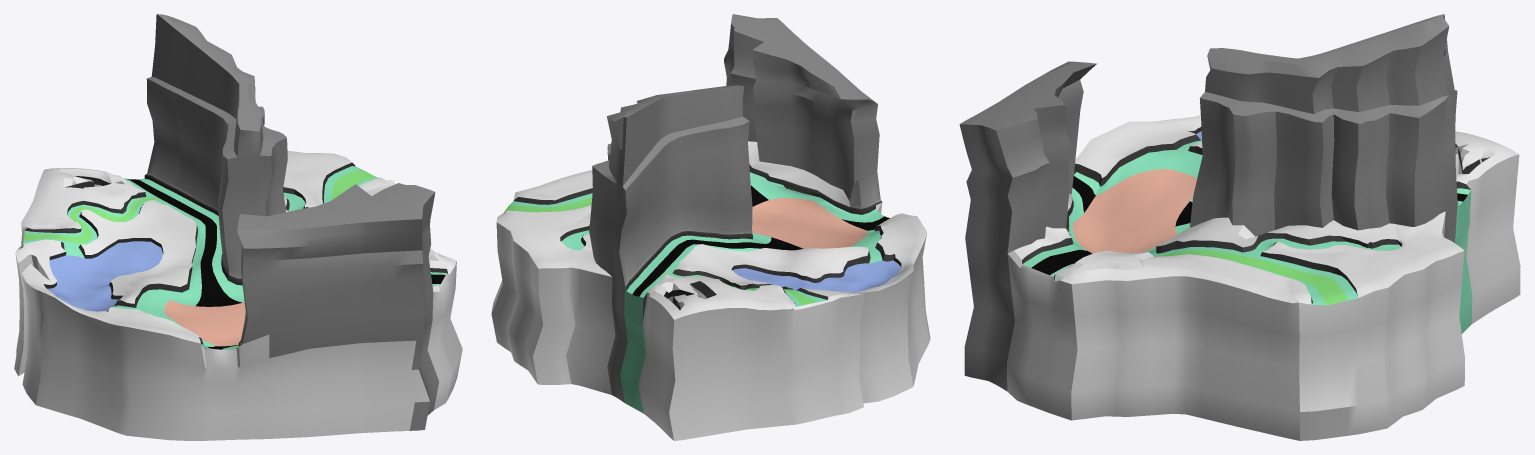
File: campfireisland 1.fbx
3 views of the same model, side by side, from view 1: azimuth 30°, elevation 25°; view 2: azimuth 150°, elevation 25°; view 3: azimuth 270°, elevation 25° (orthographic). The views are drawn at different scales.
Visible parts, largest first — view 1: CampfireIsland; view 2: CampfireIsland; view 3: CampfireIsland.
Boxes of the visible parts, x1,y1,x2,y2 form: CampfireIsland: [14, 14, 462, 440]; CampfireIsland: [491, 14, 930, 440]; CampfireIsland: [959, 14, 1520, 440].
Bounding box in the file's own units: 35160 × 24543 × 38024.
